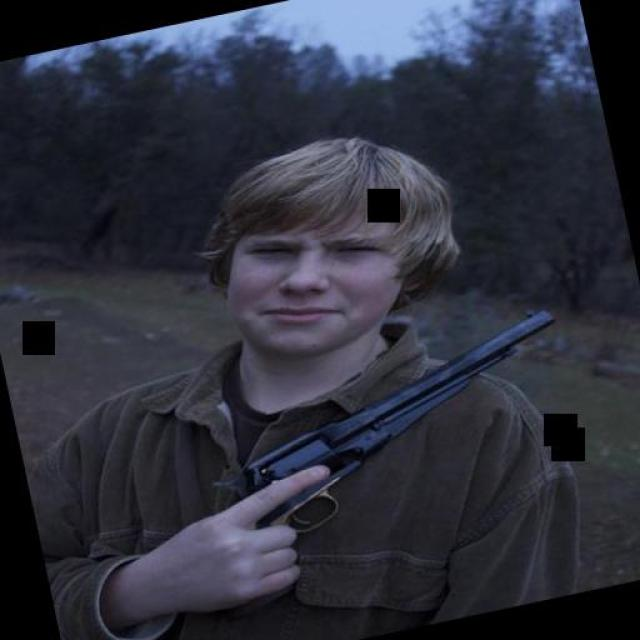gun: (206, 300, 586, 551)
